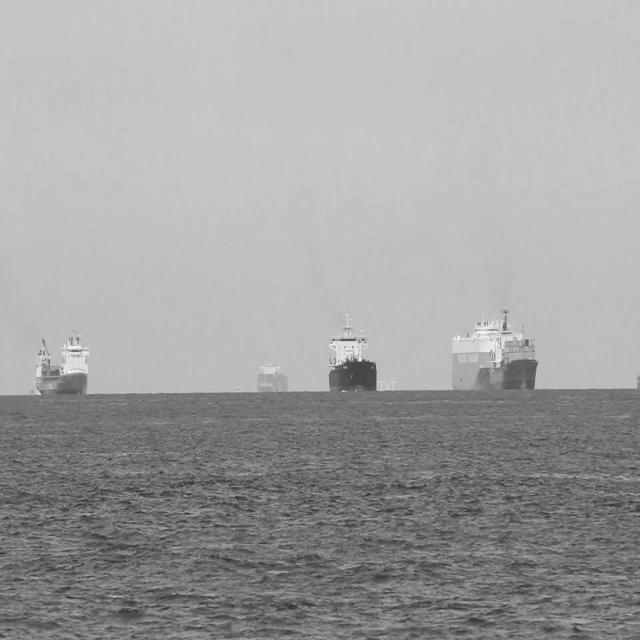ship: (452, 306, 540, 391), (328, 312, 378, 394), (34, 328, 90, 398), (258, 364, 290, 394), (378, 377, 398, 392), (232, 377, 242, 394), (28, 377, 36, 397)
